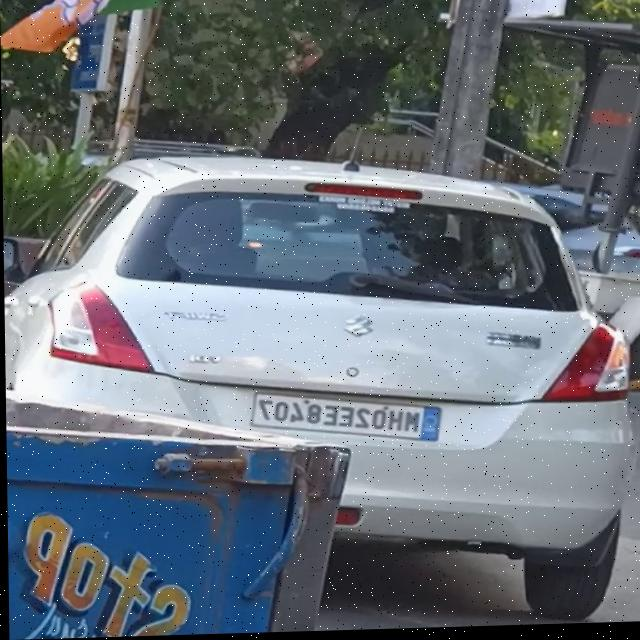plate: (247, 388, 442, 447)
